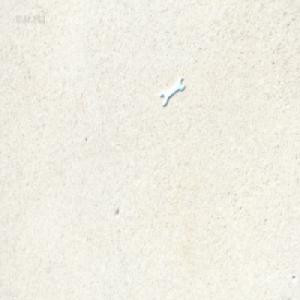Wrench: (161, 78, 184, 106)
